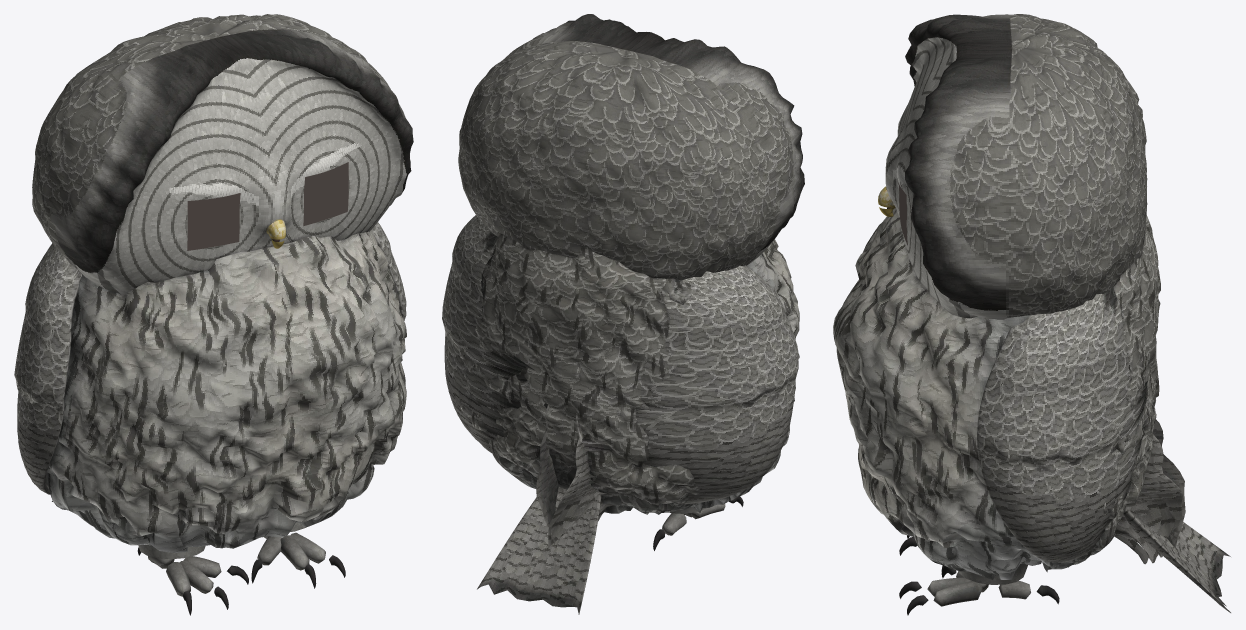
File: greatgrey.glb
3 renders of one model, left to right at view 1: azimuth 30°, elevation 25°; view 2: azimuth 150°, elevation 25°; view 3: azimuth 270°, elevation 25°, orthographic. The views are drawn at different scales.
Visible parts, largest first — view 1: body_mesh, head_mesh, wing_l_mesh, eye_l, eye_r, wing_r_mesh, leg_rt1_mesh, leg_lt1_mesh, leg_l_mesh, leg_lt0_mesh; view 2: head_mesh, body_mesh, wing_l_mesh, wing_r_mesh, tail_mesh; view 3: head_mesh, body_mesh, wing_r_mesh, tail_mesh, wing_l_mesh, leg_rt0_mesh, leg_r_mesh.
Boxes of the visible parts, <box> form: body_mesh: <box>46,230,406,553</box>; head_mesh: <box>32,14,413,294</box>; wing_l_mesh: <box>14,243,81,494</box>; eye_l: <box>187,193,240,250</box>; eye_r: <box>303,162,348,226</box>; wing_r_mesh: <box>371,222,406,320</box>; leg_rt1_mesh: <box>280,535,309,570</box>; leg_lt1_mesh: <box>180,560,213,593</box>; leg_l_mesh: <box>138,545,205,559</box>; leg_lt0_mesh: <box>166,562,190,596</box>; head_mesh: <box>458,14,804,280</box>; body_mesh: <box>459,233,799,514</box>; wing_l_mesh: <box>548,265,798,548</box>; wing_r_mesh: <box>442,215,558,544</box>; tail_mesh: <box>477,486,601,614</box>; head_mesh: <box>885,14,1147,319</box>; body_mesh: <box>833,208,1160,579</box>; wing_r_mesh: <box>977,287,1183,564</box>; tail_mesh: <box>1123,509,1230,612</box>; wing_l_mesh: <box>1152,397,1185,548</box>; leg_rt0_mesh: <box>933,581,982,606</box>; leg_r_mesh: <box>958,564,1027,584</box>.
Bounding box in the file's own units: 37.4 × 51.65 × 34.06.
2 materials, 1 textured.
